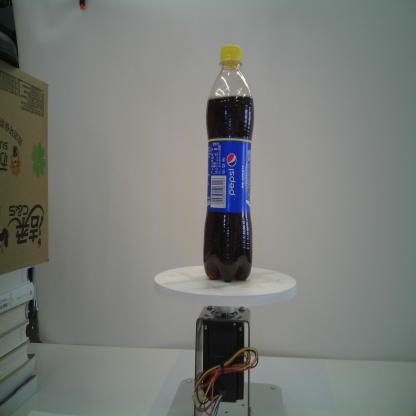Drink: (201, 42, 254, 285)
